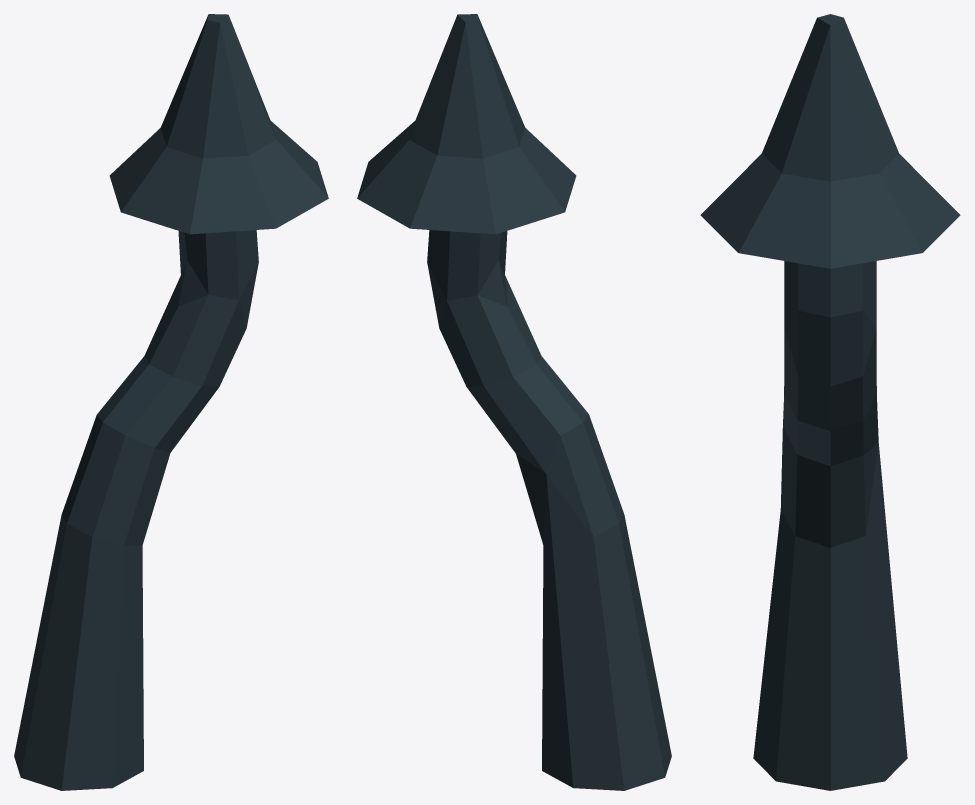
Rendered from Chimney 07.fbx.
3 views of the same model, side by side, from view 1: azimuth 30°, elevation 25°; view 2: azimuth 150°, elevation 25°; view 3: azimuth 270°, elevation 25° (orthographic). The views are drawn at different scales.
Visible parts, largest first — view 1: Chimney 07; view 2: Chimney 07; view 3: Chimney 07.
Part boxes in pixels (x1,y1,x2,y2): Chimney 07: (14, 14, 328, 790); Chimney 07: (357, 14, 671, 790); Chimney 07: (700, 14, 960, 790).
Size of the model in its own units: 197 by 453 by 131.
